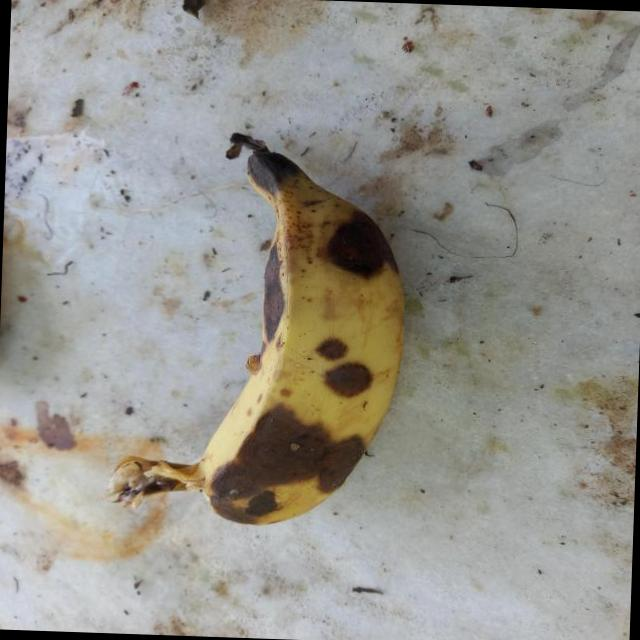Banana: (101, 127, 412, 531)
